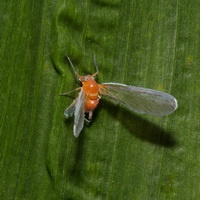insect: (60, 55, 177, 136)
